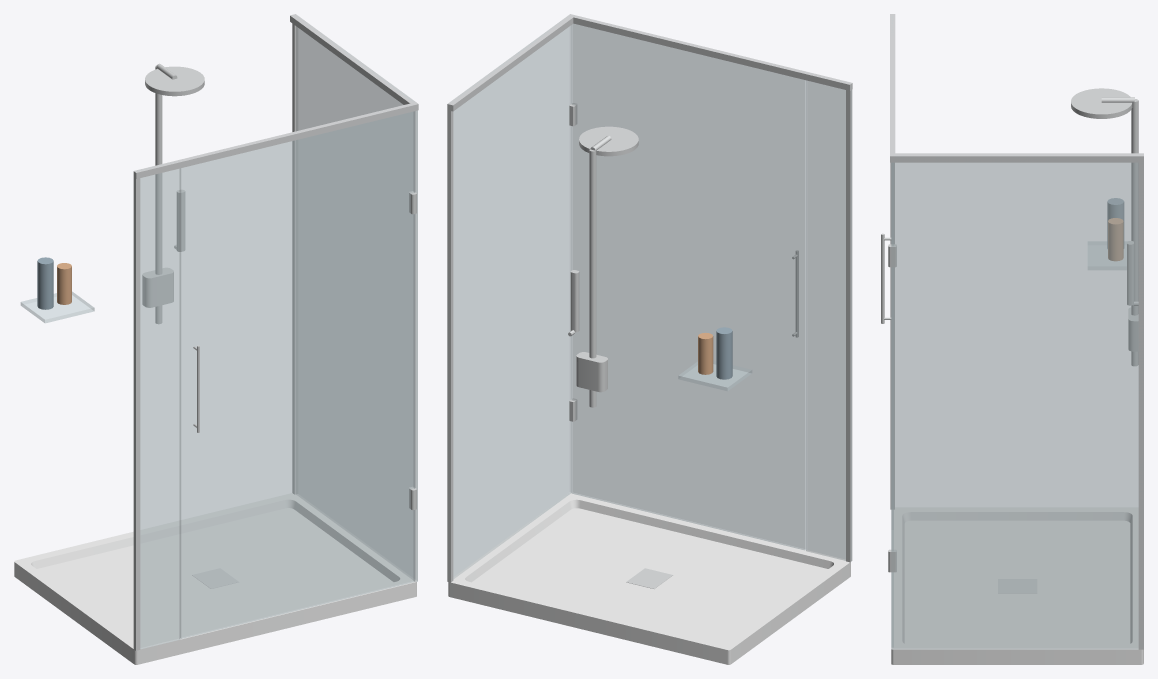
3 views of the same model, side by side, from view 1: azimuth 30°, elevation 25°; view 2: azimuth 150°, elevation 25°; view 3: azimuth 270°, elevation 25° (orthographic). The views are drawn at different scales.
Parts seen in each view (by area): view 1: Vách tắm đứng Rộng=1200; Sâu=900; view 2: Vách tắm đứng Rộng=1200; Sâu=900; view 3: Vách tắm đứng Rộng=1200; Sâu=900.
Part boxes in pixels (x1,y1,x2,y2): Vách tắm đứng Rộng=1200; Sâu=900: [14, 14, 418, 664]; Vách tắm đứng Rộng=1200; Sâu=900: [447, 14, 852, 664]; Vách tắm đứng Rộng=1200; Sâu=900: [881, 14, 1143, 664].
Bounding box in the file's own units: 1.2 × 2 × 0.936.
